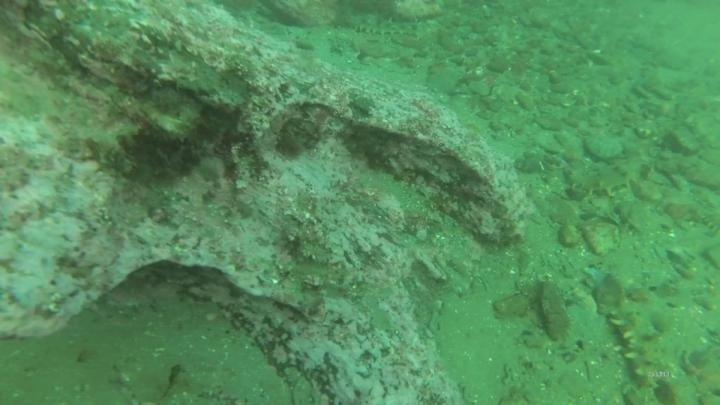holothurian: (605, 295, 669, 398), (565, 147, 653, 201), (342, 11, 426, 45)
